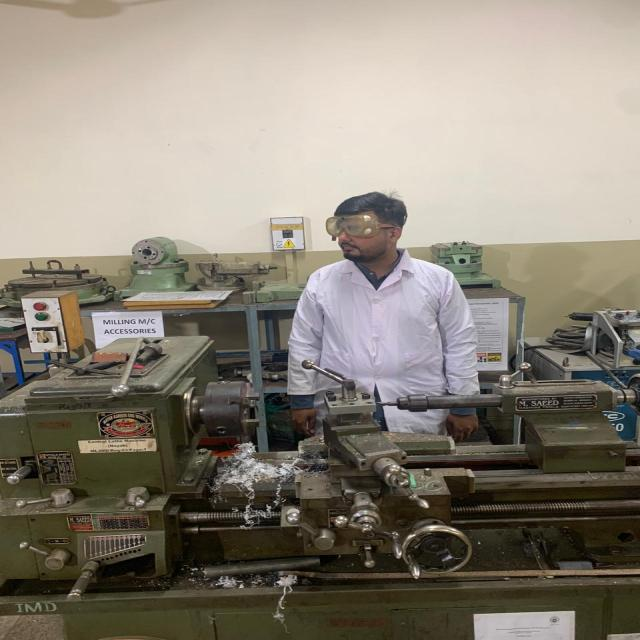googles: (323, 214, 381, 239)
labcoat: (288, 254, 480, 445)
